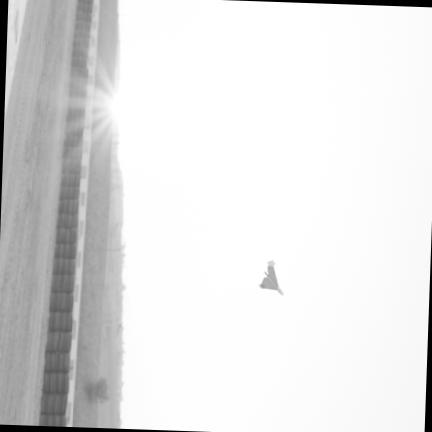Shahed: (259, 262, 282, 295)
